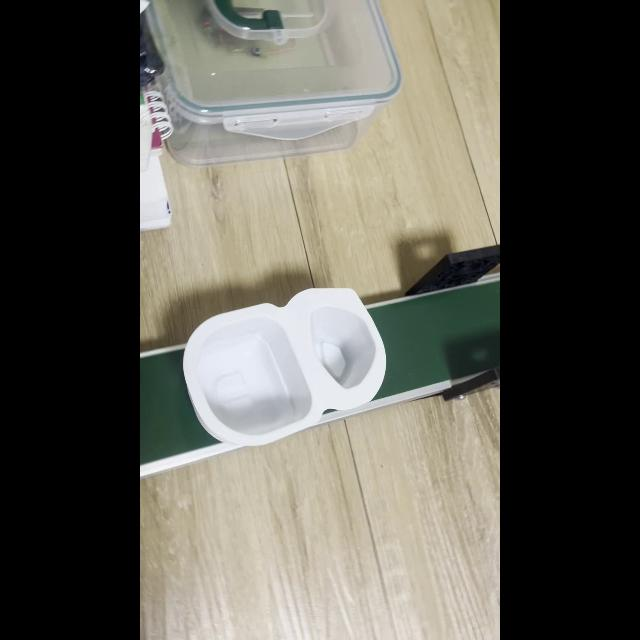clean: (182, 290, 386, 444)
